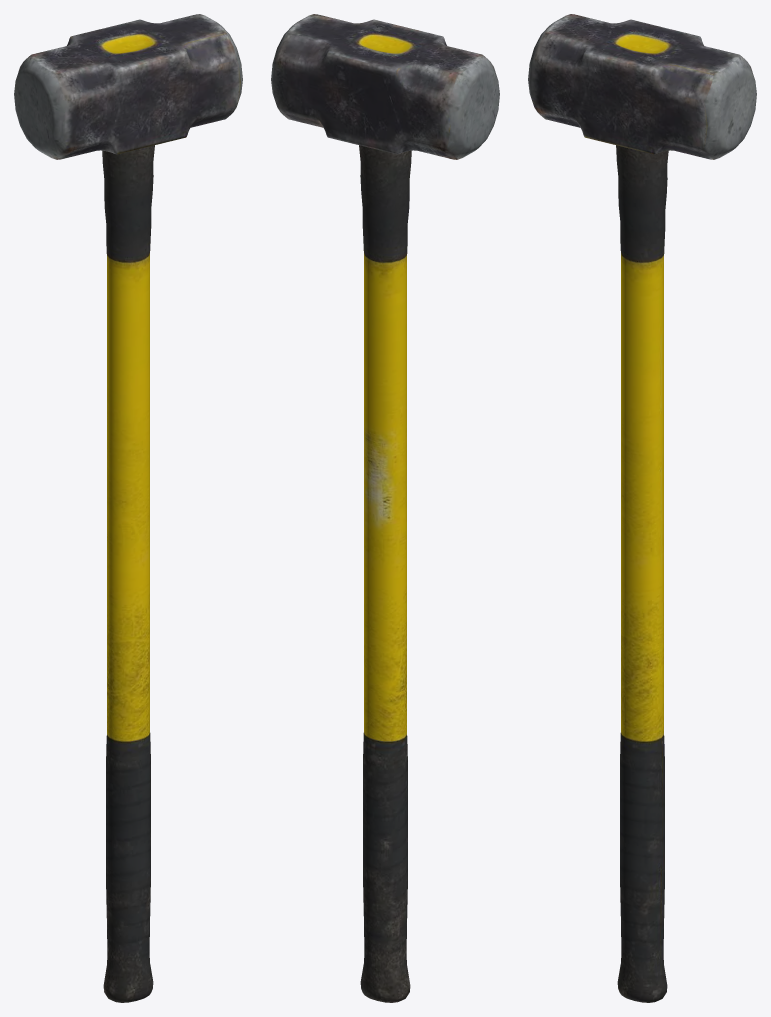
Rendered from sledgehammer_01.glb.
3 renders of one model, left to right at view 1: azimuth 30°, elevation 25°; view 2: azimuth 150°, elevation 25°; view 3: azimuth 330°, elevation 25°, orthographic.
Parts seen in each view (by area): view 1: sledgehammer_01; view 2: sledgehammer_01; view 3: sledgehammer_01.
Part boxes in pixels (x1=…): sledgehammer_01: x1=14, y1=14, x2=242, y2=1002; sledgehammer_01: x1=271, y1=14, x2=499, y2=1002; sledgehammer_01: x1=528, y1=14, x2=756, y2=1002.
Size of the model in its own units: 0.2084 by 1.01 by 0.0905.
1 material, 1 textured.
